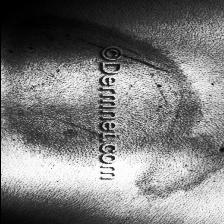Toxin: (125, 88, 208, 194), (12, 65, 94, 157), (9, 16, 66, 60), (124, 53, 168, 76), (69, 34, 103, 56)
